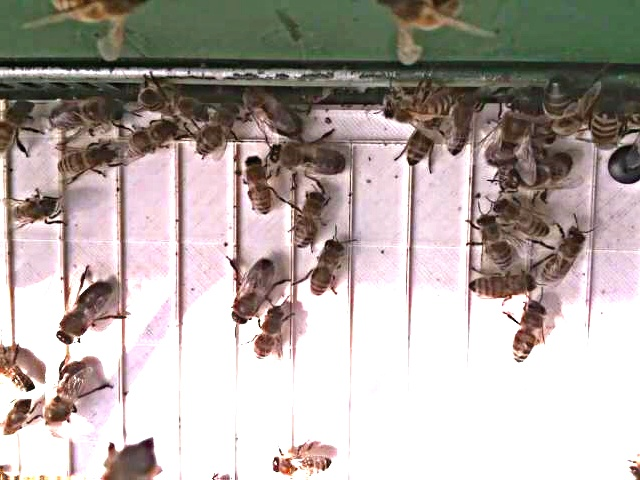Drone: (38, 358, 89, 439), (54, 279, 111, 349), (228, 258, 277, 329), (502, 150, 575, 196), (266, 140, 348, 180), (46, 99, 125, 137)
Worker: (538, 225, 588, 288), (492, 196, 550, 244), (191, 108, 237, 164), (466, 270, 537, 306), (306, 236, 345, 301), (509, 301, 546, 369), (290, 187, 327, 253), (119, 120, 176, 161), (51, 143, 114, 180), (474, 212, 511, 274), (240, 156, 274, 221), (249, 306, 286, 365), (266, 453, 334, 480), (6, 196, 62, 227)
